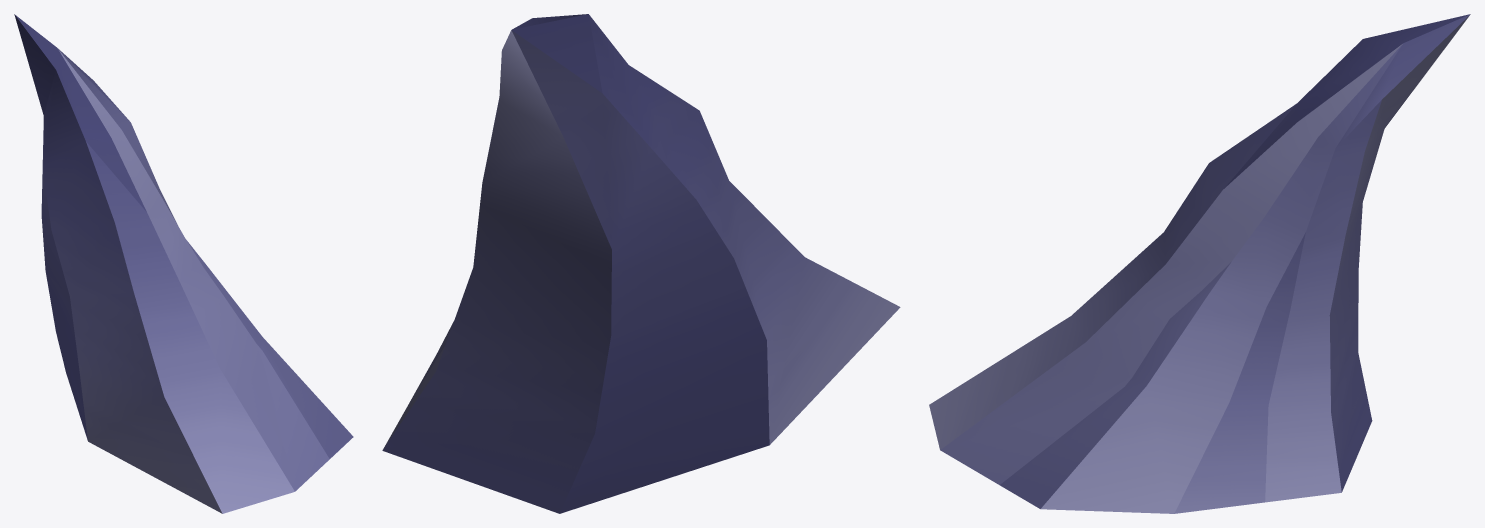
Rendered from volcanic-spire.obj.
3 renders of one model, left to right at view 1: azimuth 30°, elevation 25°; view 2: azimuth 150°, elevation 25°; view 3: azimuth 270°, elevation 25°, orthographic. The views are drawn at different scales.
Visible parts, largest first — view 1: volcanic-spire; view 2: volcanic-spire; view 3: volcanic-spire.
Boxes of the visible parts, left/top/right/bottom form: volcanic-spire: left=14, top=14, right=353, bottom=513; volcanic-spire: left=382, top=14, right=900, bottom=513; volcanic-spire: left=929, top=14, right=1470, bottom=513.
Bounding box in the file's own units: 3.74 × 5.5 × 6.75.
Materials: 1 (1 with a texture image).
